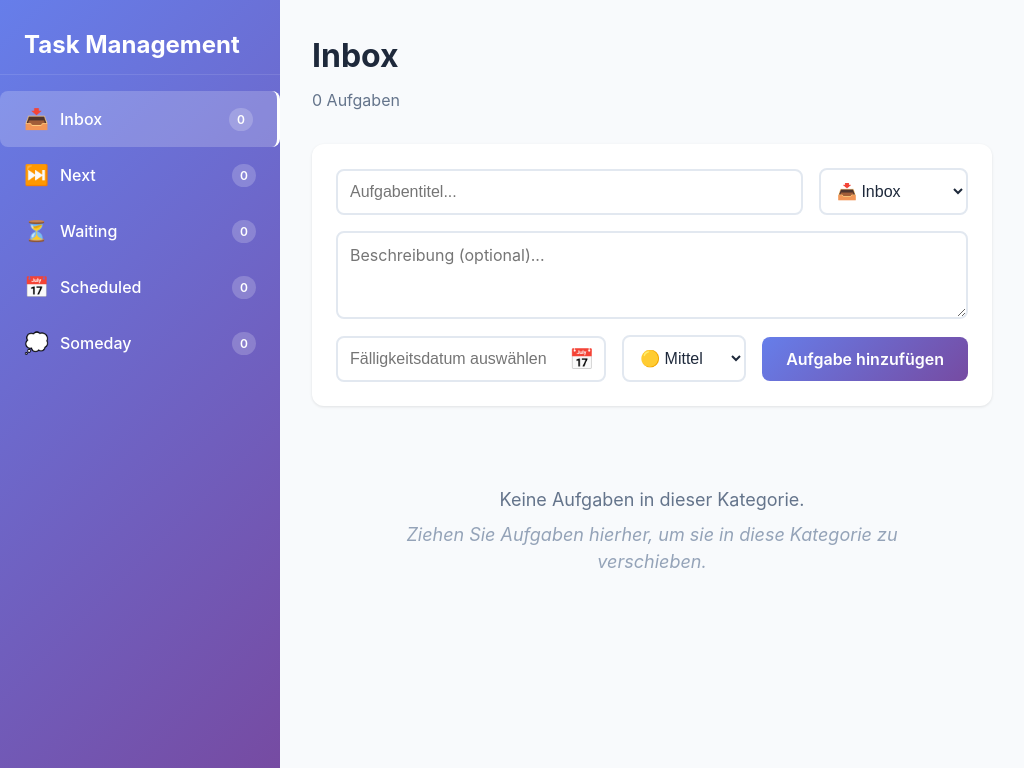
Test: App › Task Management › should edit a task
Type "Original Task" into the field with placeholder "Aufgabentitel..." at point(570, 192), box left=336, top=168, right=803, bottom=214
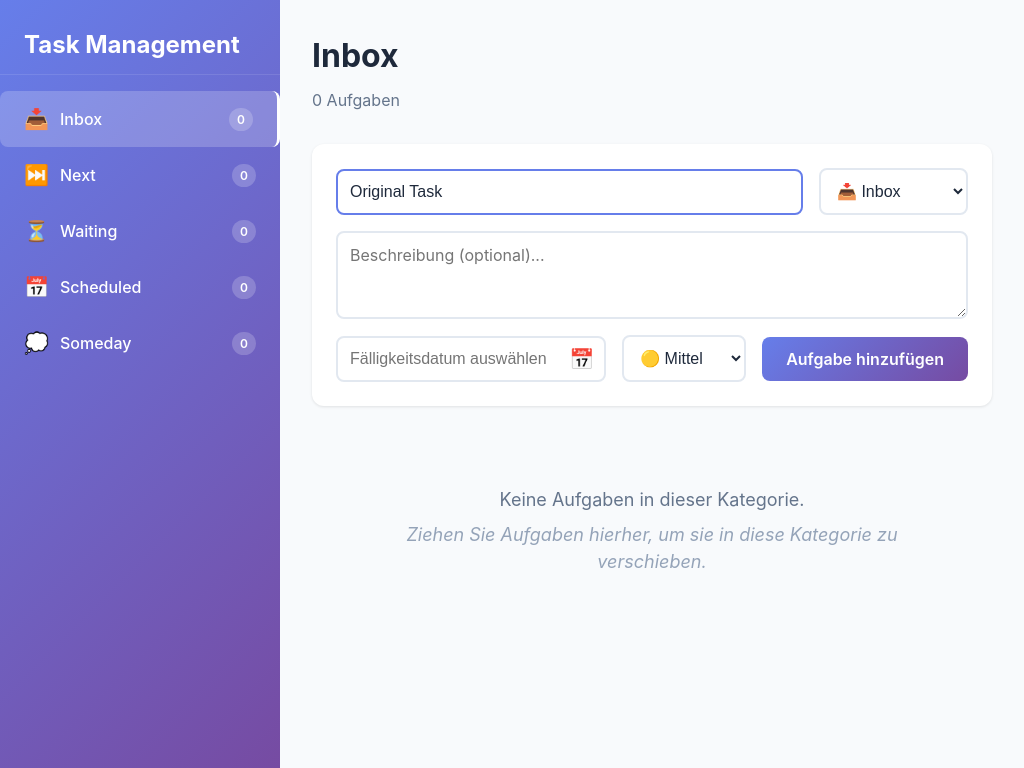
Click the button "Aufgabe hinzufügen" at point(865, 358), box left=762, top=336, right=968, bottom=380
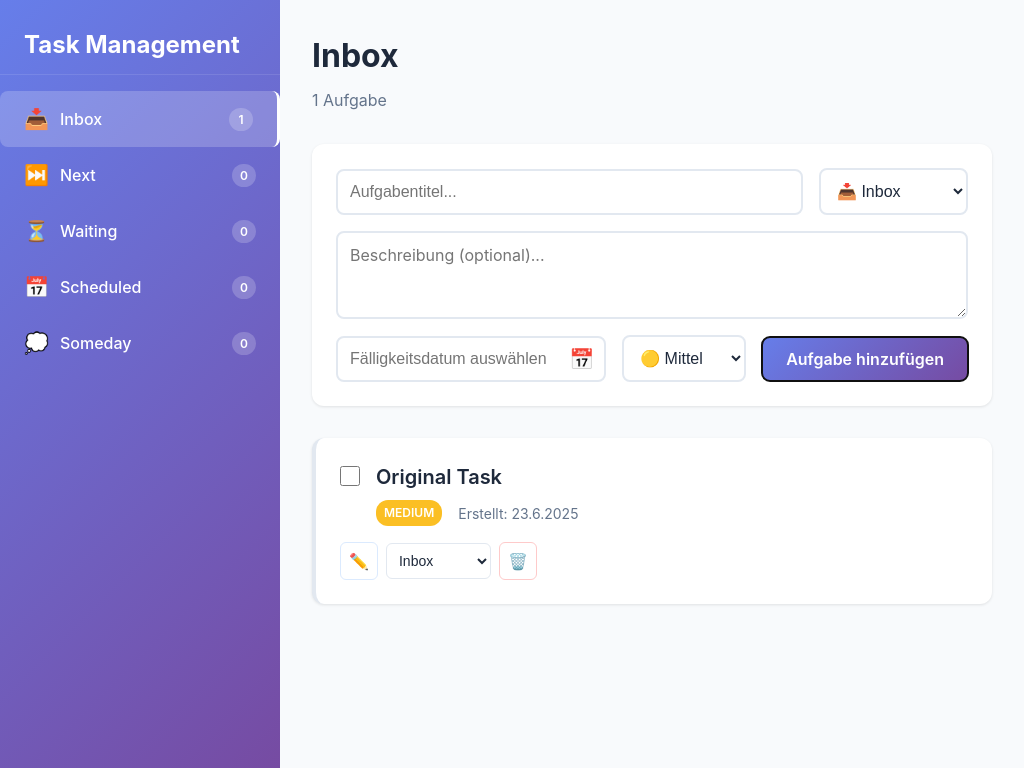
// Edit the task
Click the button "✏️" at point(359, 561), box left=340, top=542, right=378, bottom=580
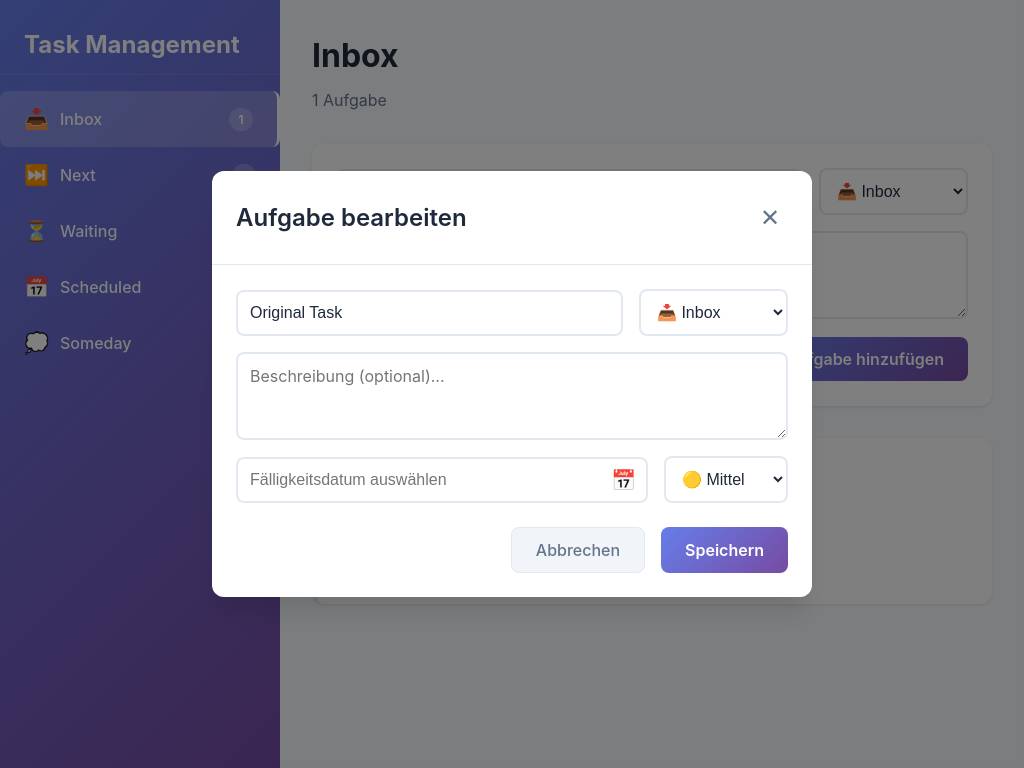
Expected: the heading "Aufgabe bearbeiten" is shown, left=236, top=200, right=467, bottom=236
Expected: the field showing "Original Task" is shown, left=236, top=290, right=623, bottom=336
